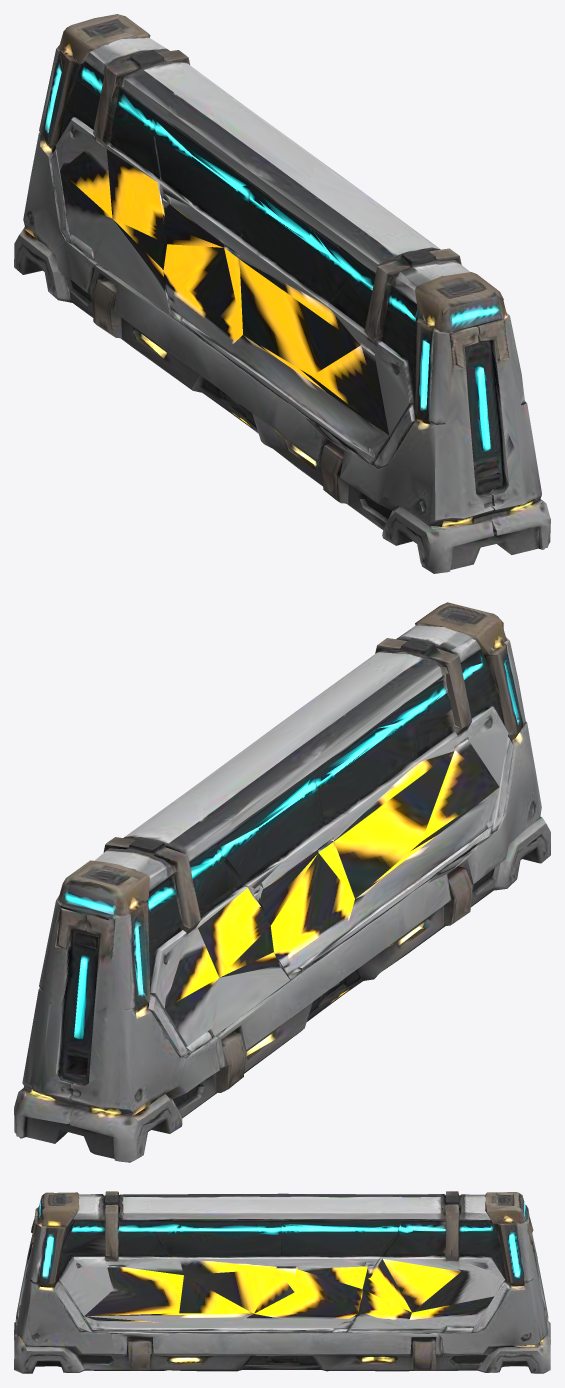
The model's file is barrier.glb.
The picture shows the model from 3 angles, top to bottom: view 1: azimuth 30°, elevation 25°; view 2: azimuth 150°, elevation 25°; view 3: azimuth 270°, elevation 25°; orthographic projection. The views are drawn at different scales.
Parts seen in each view (by area): view 1: barrier; view 2: barrier; view 3: barrier.
Boxes of the visible parts, bbox=[...] form: barrier: bbox=[14, 14, 550, 573]; barrier: bbox=[14, 602, 550, 1162]; barrier: bbox=[14, 1191, 550, 1373].
Size of the model in its own units: 0.746 by 1.29 by 4.
Materials: 1 (1 with a texture image).
